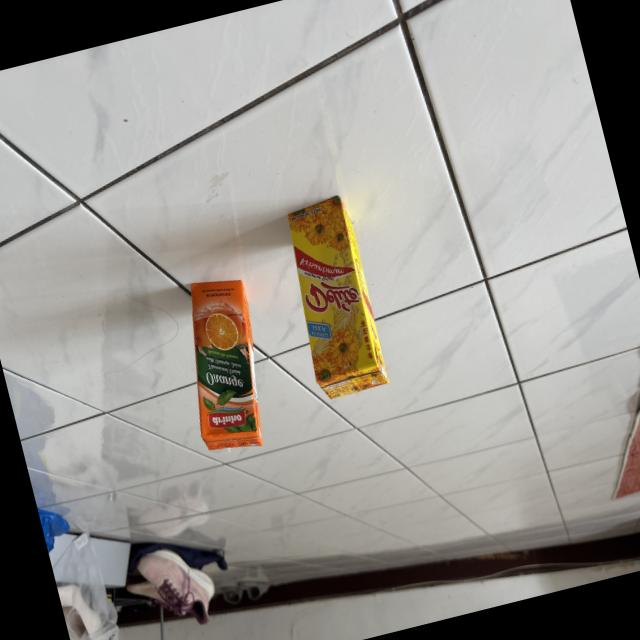drink_carton: (265, 183, 404, 420), (158, 258, 292, 468)
